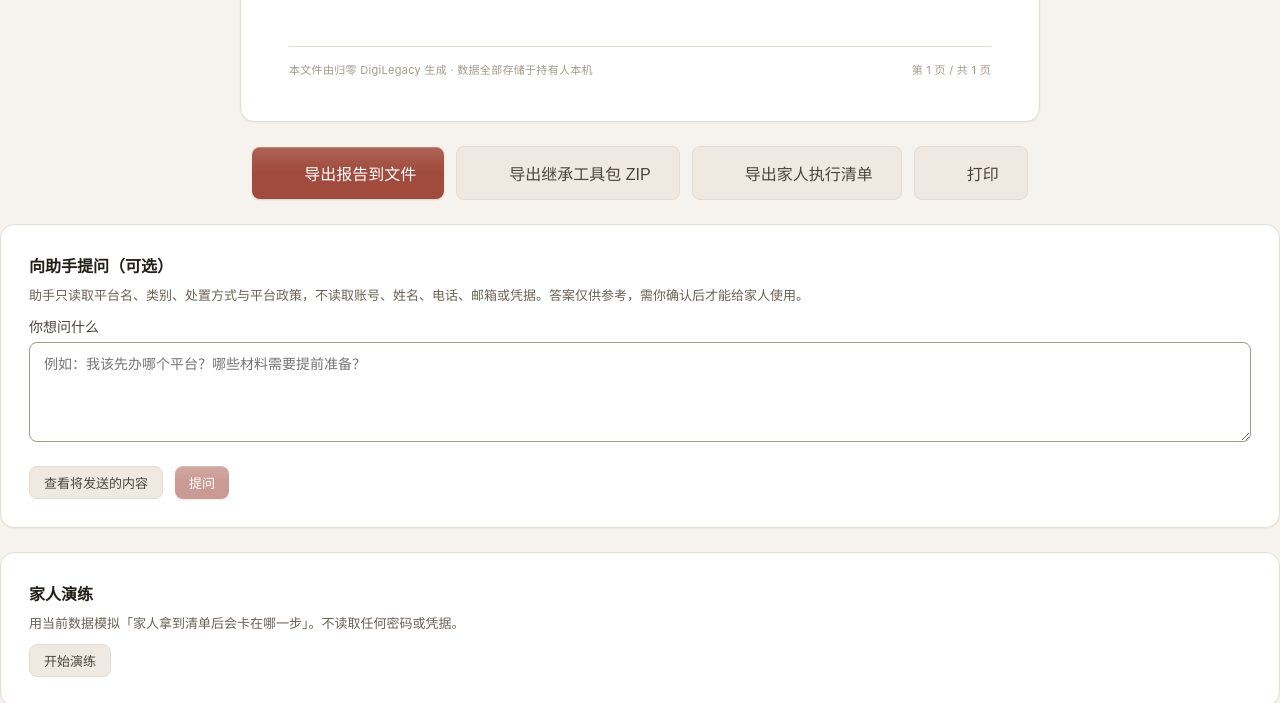
Scenario: AI 助手（默认关闭，不内置服务） › 启用后可见，且必须先预览才能提问
(page scrolled)
Check: the button "提问" is disabled, box [175,466,229,499]
Click the button "查看将发送的内容" at (96, 482), box [29,466,163,499]
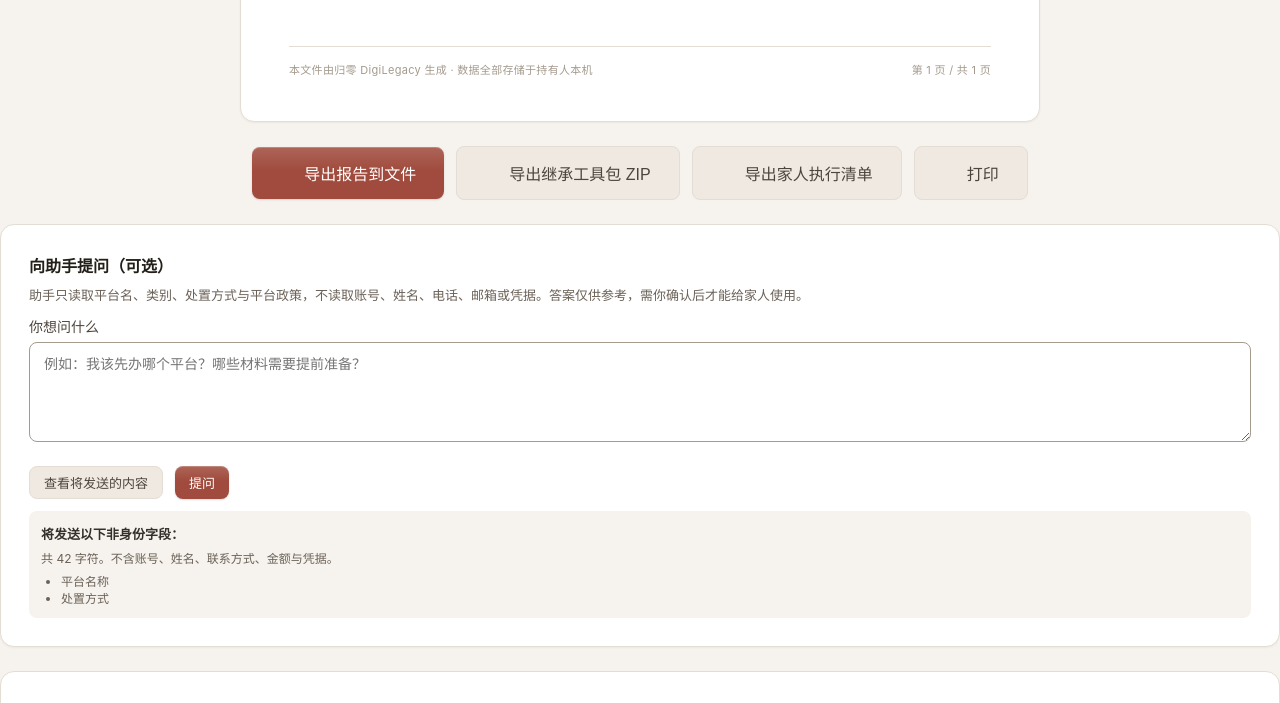
Check: the text "将发送以下非身份字段" is shown, box [41,526,184,542]
Check: the text "42" is shown, box [41,551,339,566]
Check: the button "提问" is enabled, box [175,466,229,499]
